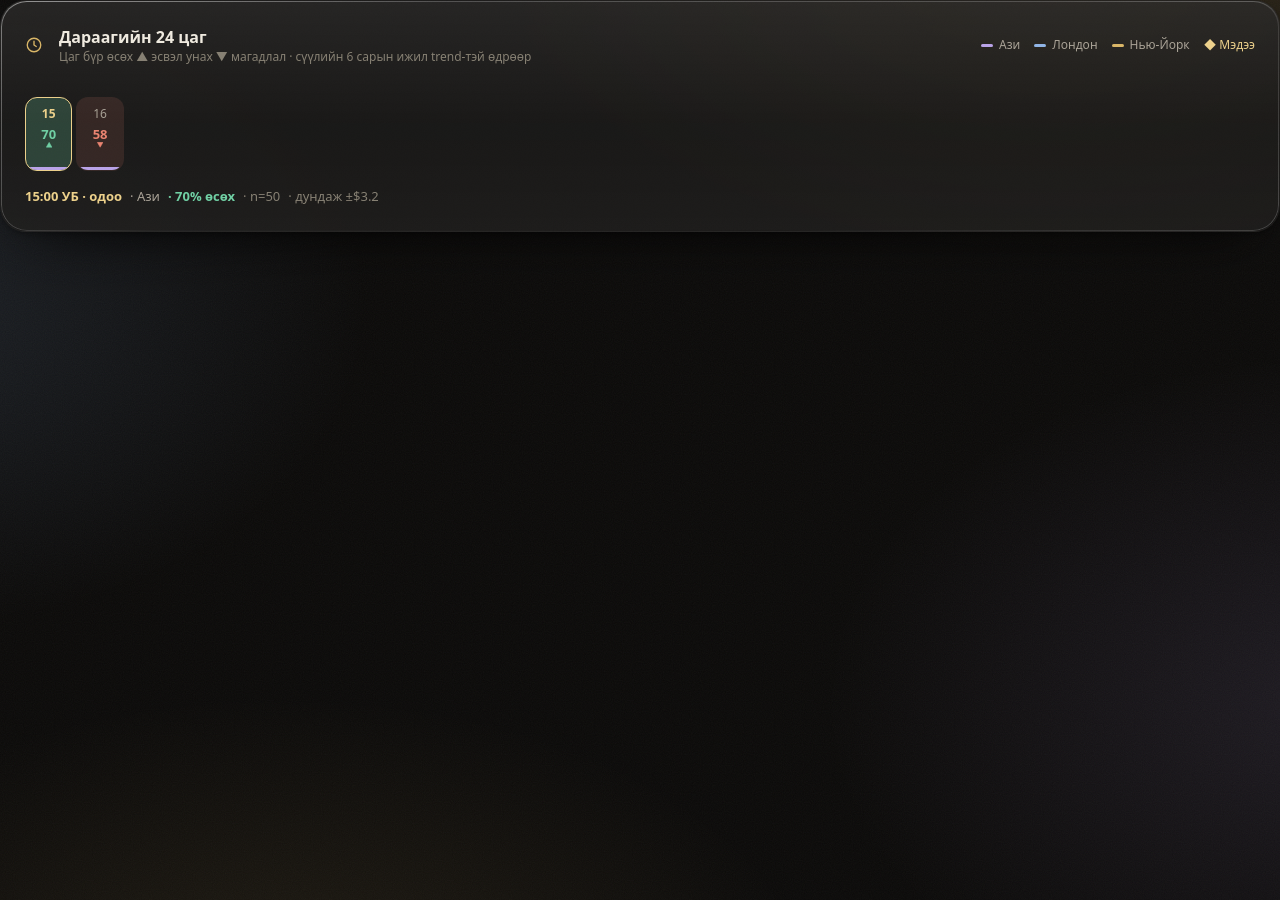
Scenario: pointing at another hour shows that hour; below 50 reads as the chance of falling; all-days odds say so
This screenshot has width=1280, height=900.
Hover over the button with test id "hour-cell" showing "16 58" at (100, 134), box 76,97 -> 124,171
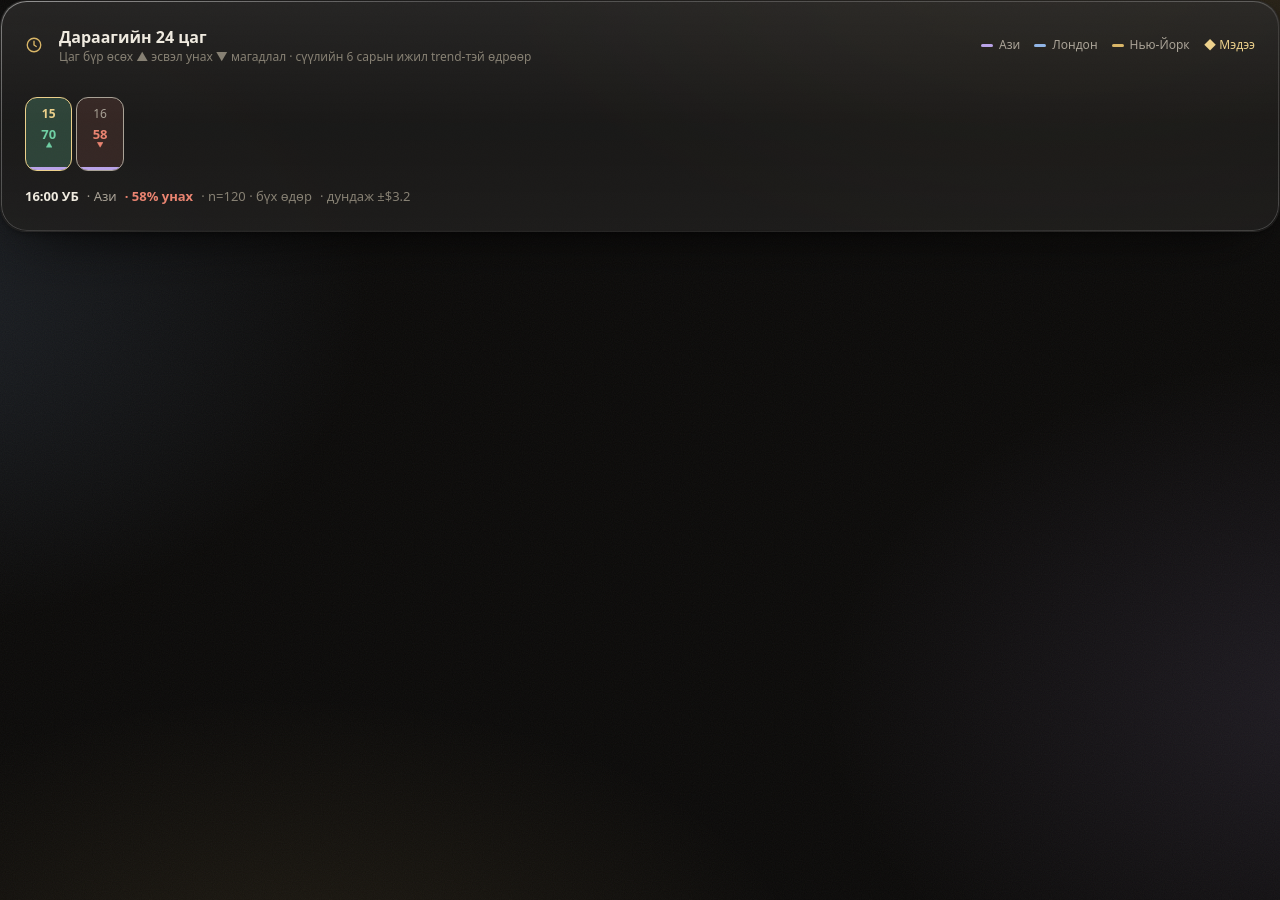
Now the element with test id "hour-detail" shows "16:00", box 25,187 -> 58,205
Now the element with test id "hour-detail" shows "58% унах", box 132,187 -> 193,205
Now the element with test id "hour-detail" shows "n=120 · бүх өдөр", box 25,187 -> 410,205
